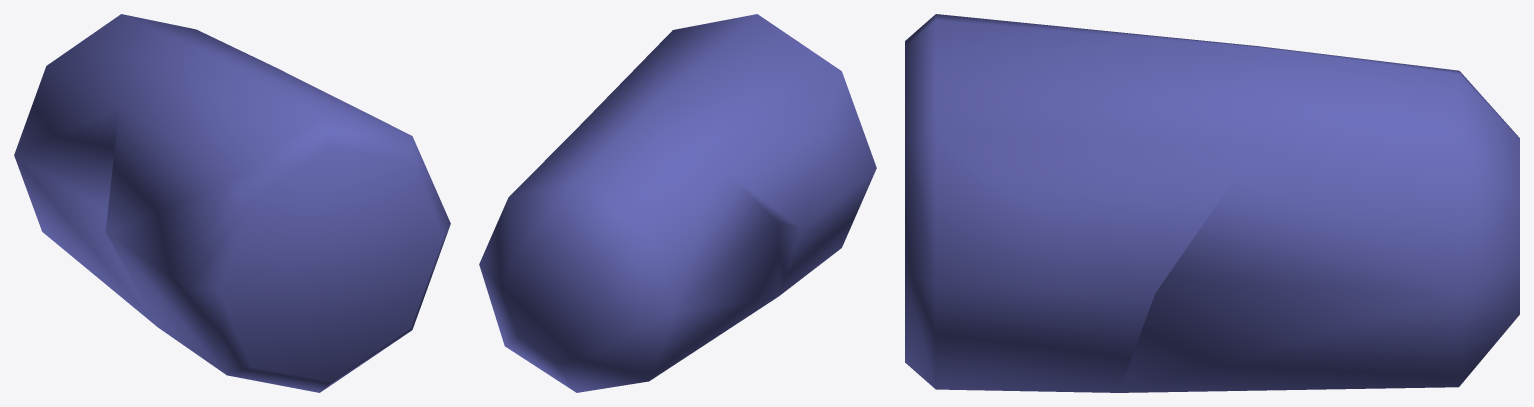
The model's file is CannonDummy.fbx.
The picture shows the model from 3 angles, left to right: view 1: azimuth 30°, elevation 25°; view 2: azimuth 150°, elevation 25°; view 3: azimuth 270°, elevation 25°; orthographic projection. The views are drawn at different scales.
Parts seen in each view (by area): view 1: Cylinder.002; view 2: Cylinder.002; view 3: Cylinder.002.
Boxes of the visible parts, x1,y1,x2,y2 form: Cylinder.002: (14,14,450,392); Cylinder.002: (479,14,876,392); Cylinder.002: (905,14,1519,392).
Bounding box in the file's own units: 5.73 × 3.72 × 3.72.
Materials: 1 (1 with a texture image).
